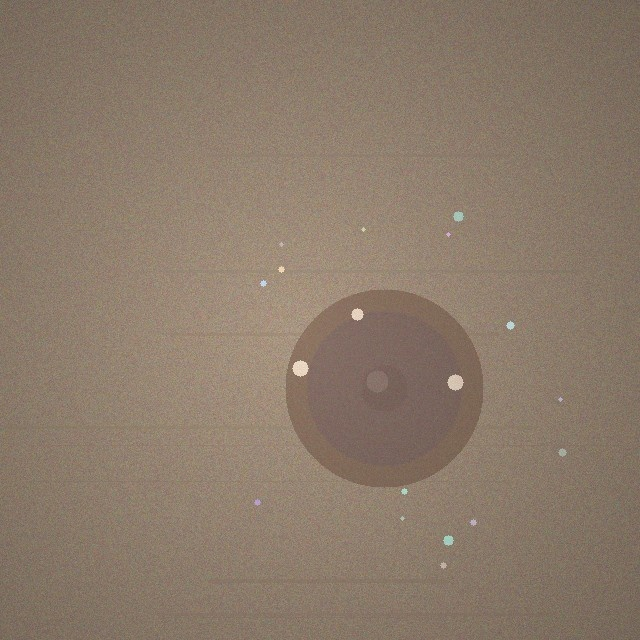overburn: (285, 289, 483, 487)
